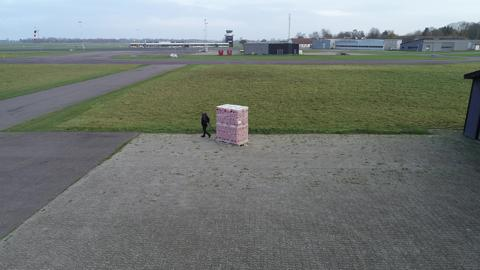RockwoolPallet: (215, 104, 250, 147)
